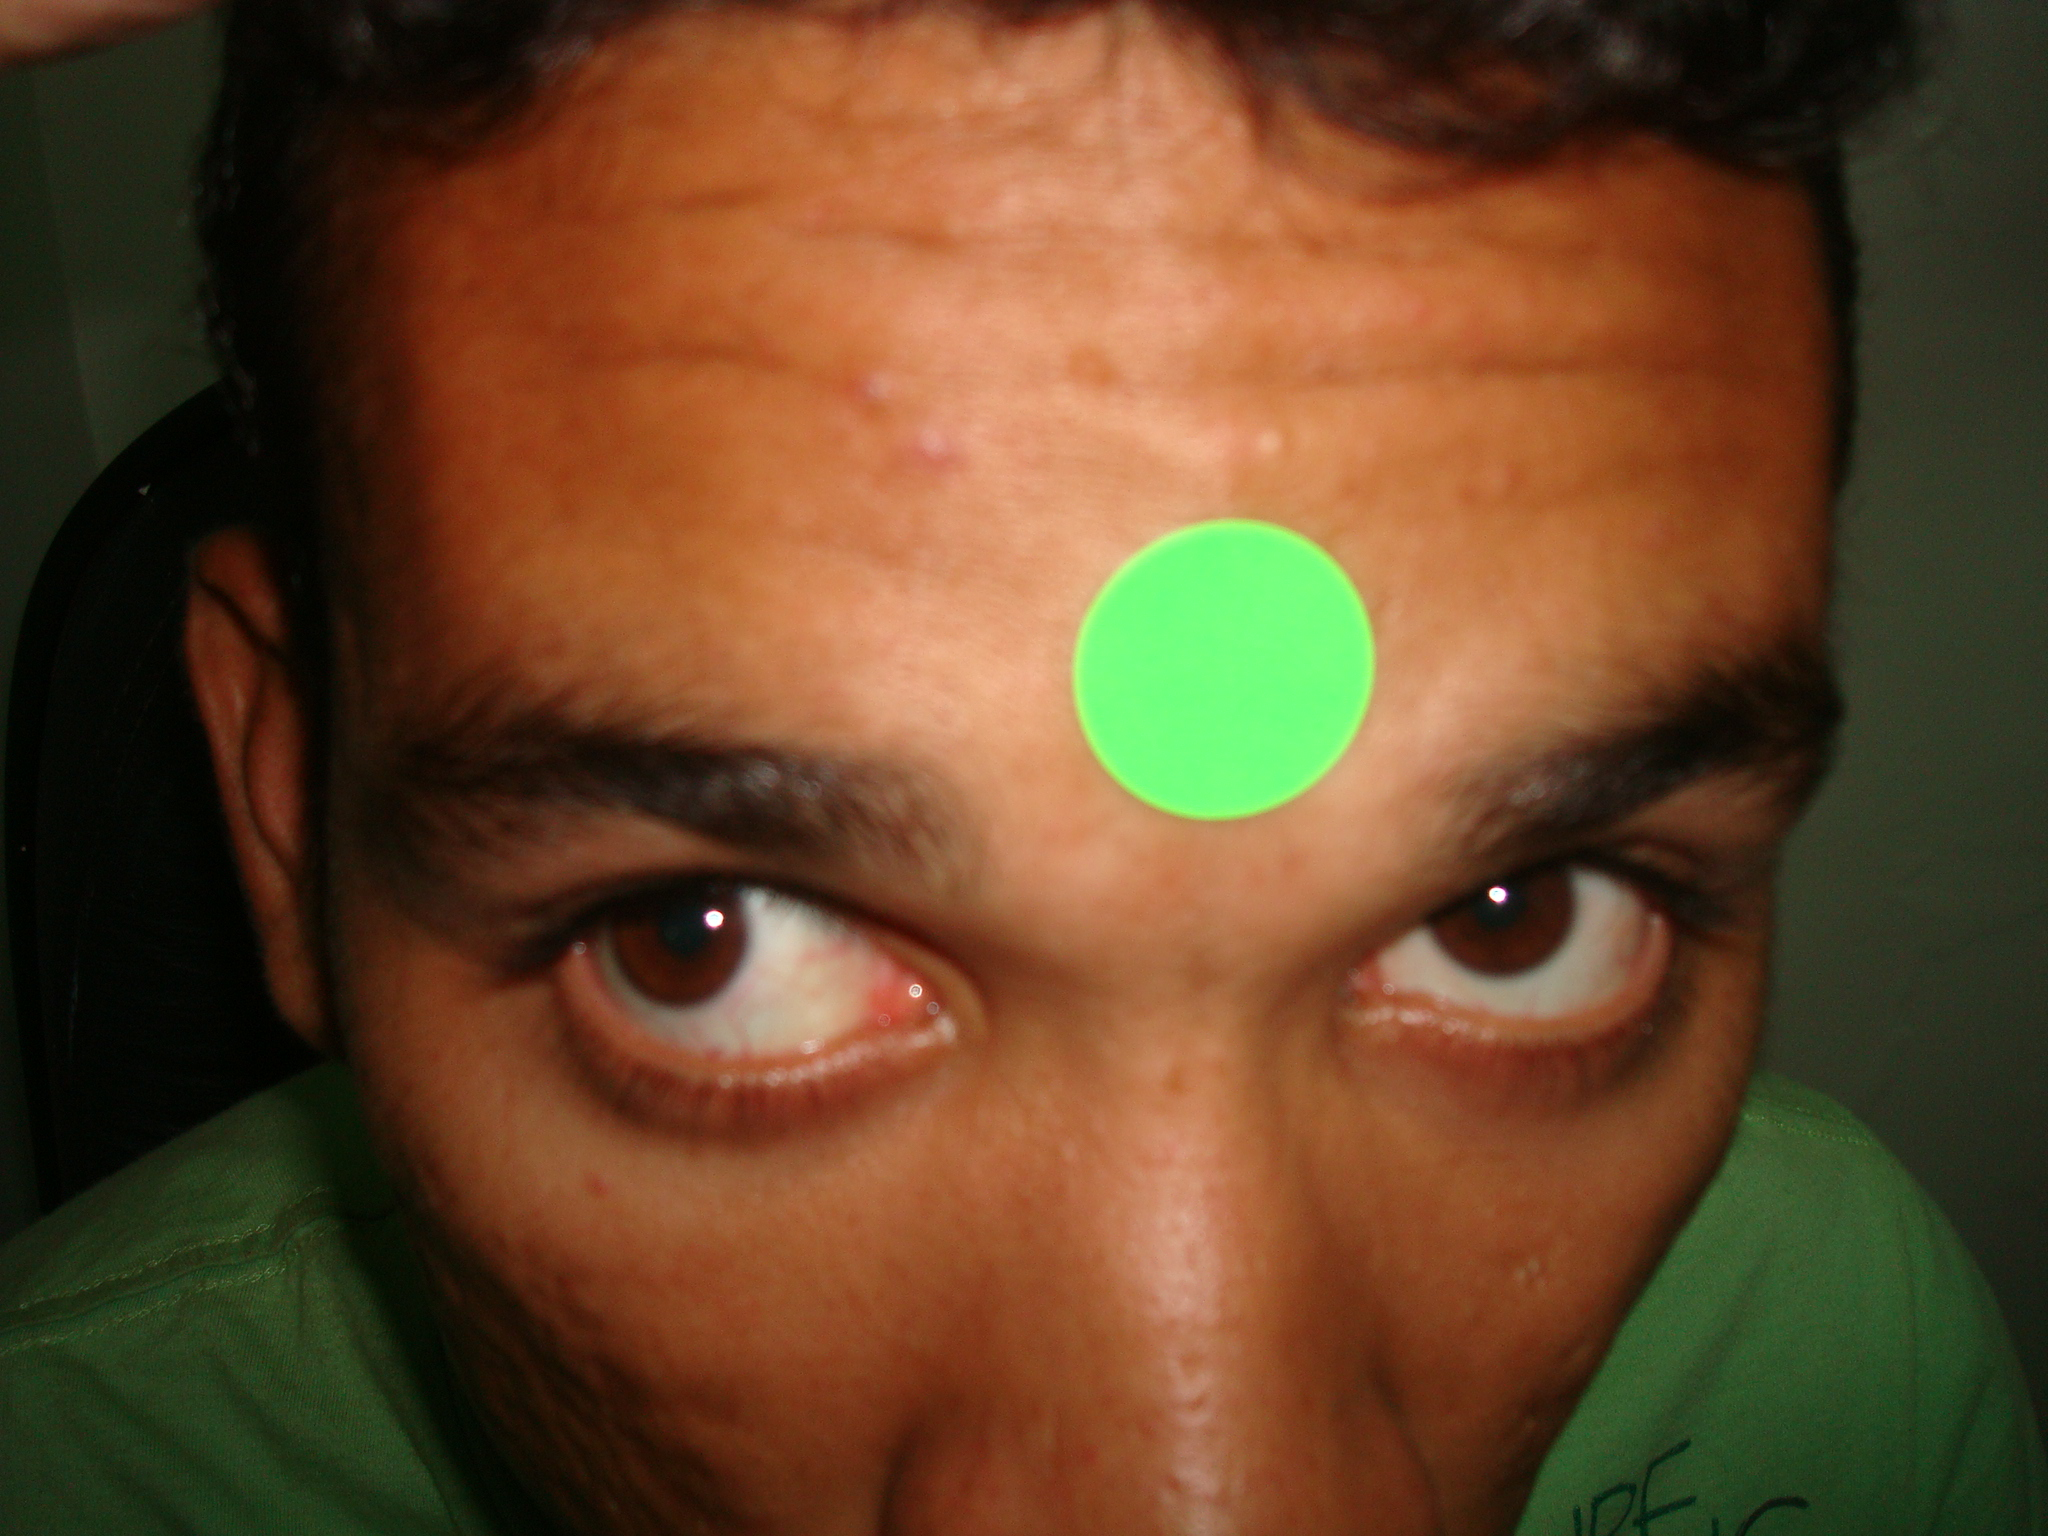flash: (1484, 879, 1511, 908), (700, 907, 729, 931)
limbo: (614, 860, 751, 1004), (1430, 844, 1569, 971)
